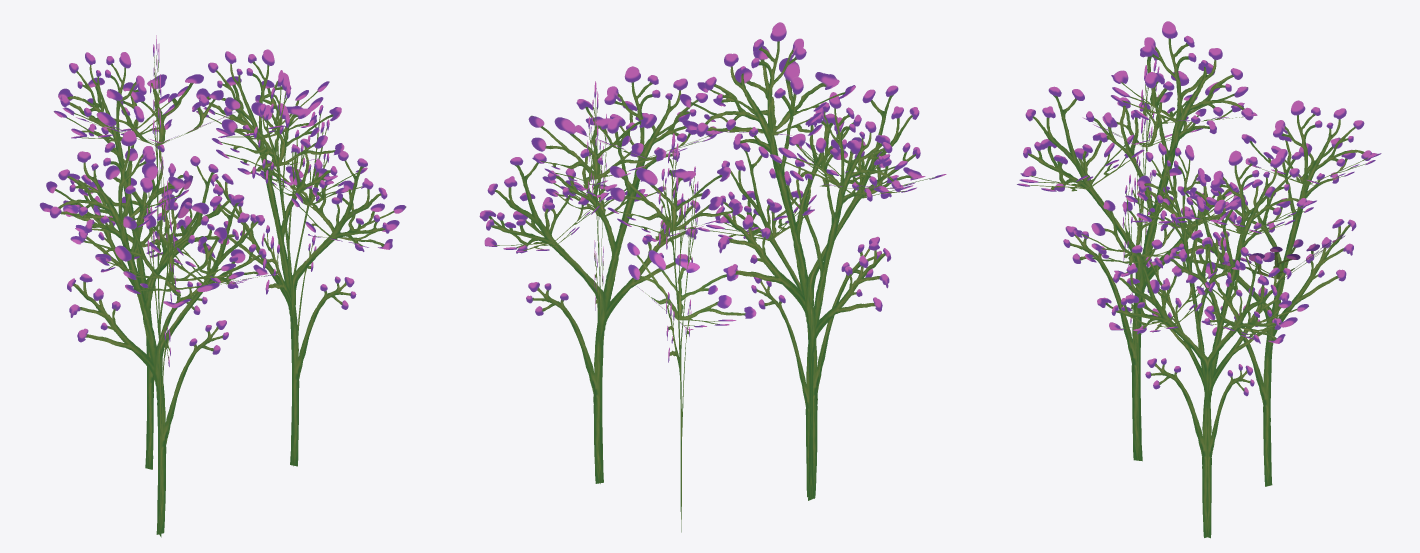
Rendered from MEADOW_SM_Flower_10_03.gltf.
3 renders of one model, left to right at view 1: azimuth 30°, elevation 25°; view 2: azimuth 150°, elevation 25°; view 3: azimuth 270°, elevation 25°, orthographic. The views are drawn at different scales.
Parts seen in each view (by area): view 1: SM_Flower_10_03_LOD0; view 2: SM_Flower_10_03_LOD0; view 3: SM_Flower_10_03_LOD0.
Boxes of the visible parts, x1,y1,x2,y2 form: SM_Flower_10_03_LOD0: (39,35,406,537); SM_Flower_10_03_LOD0: (479,22,946,532); SM_Flower_10_03_LOD0: (1017,21,1381,538).
Size of the model in its own units: 0.7547 by 0.8699 by 0.7318.
Materials: 1 (1 with a texture image).
